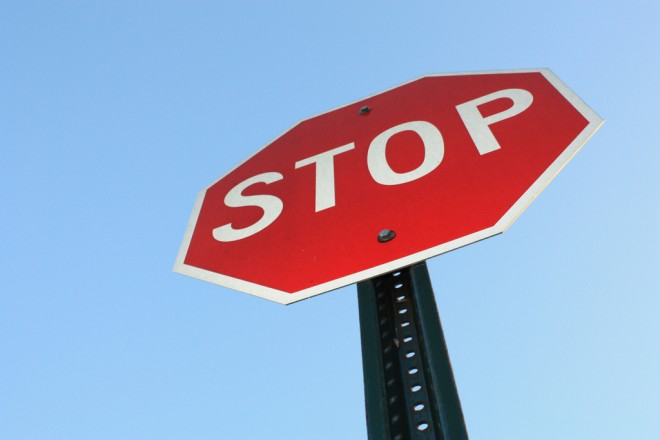stop: (172, 68, 602, 307), (172, 107, 599, 294), (300, 69, 601, 298), (173, 68, 418, 308)
